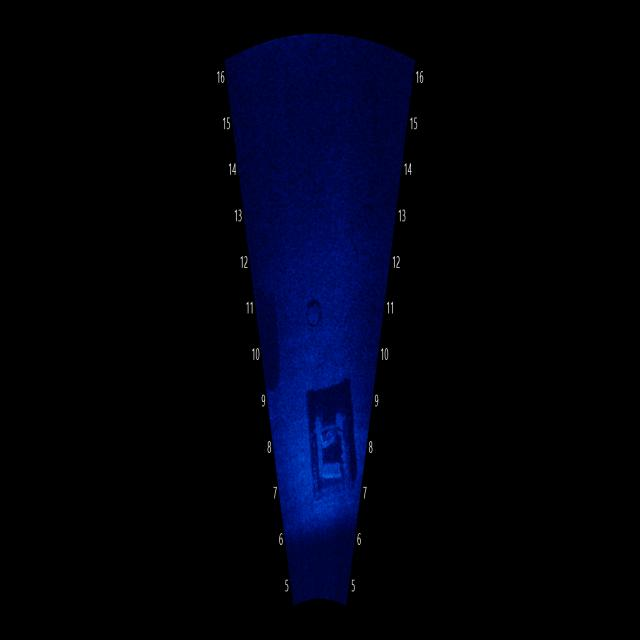square: (300, 380, 362, 513), (258, 275, 287, 407)
